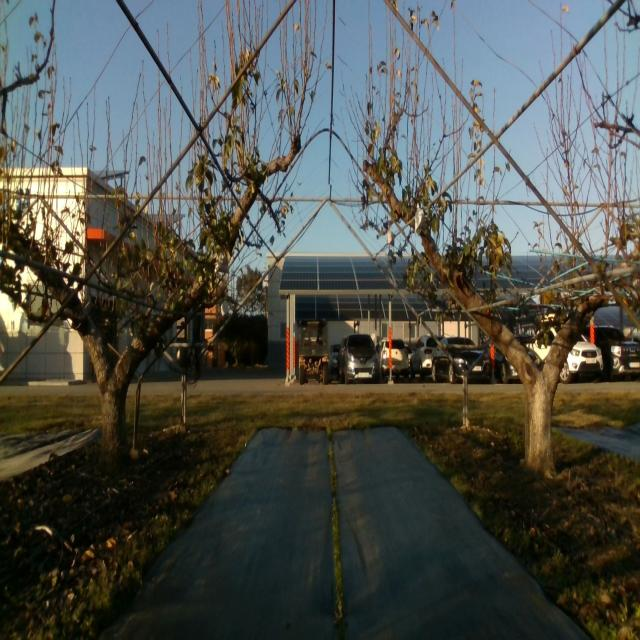pearbags: (214, 251, 230, 274), (415, 204, 426, 232)
